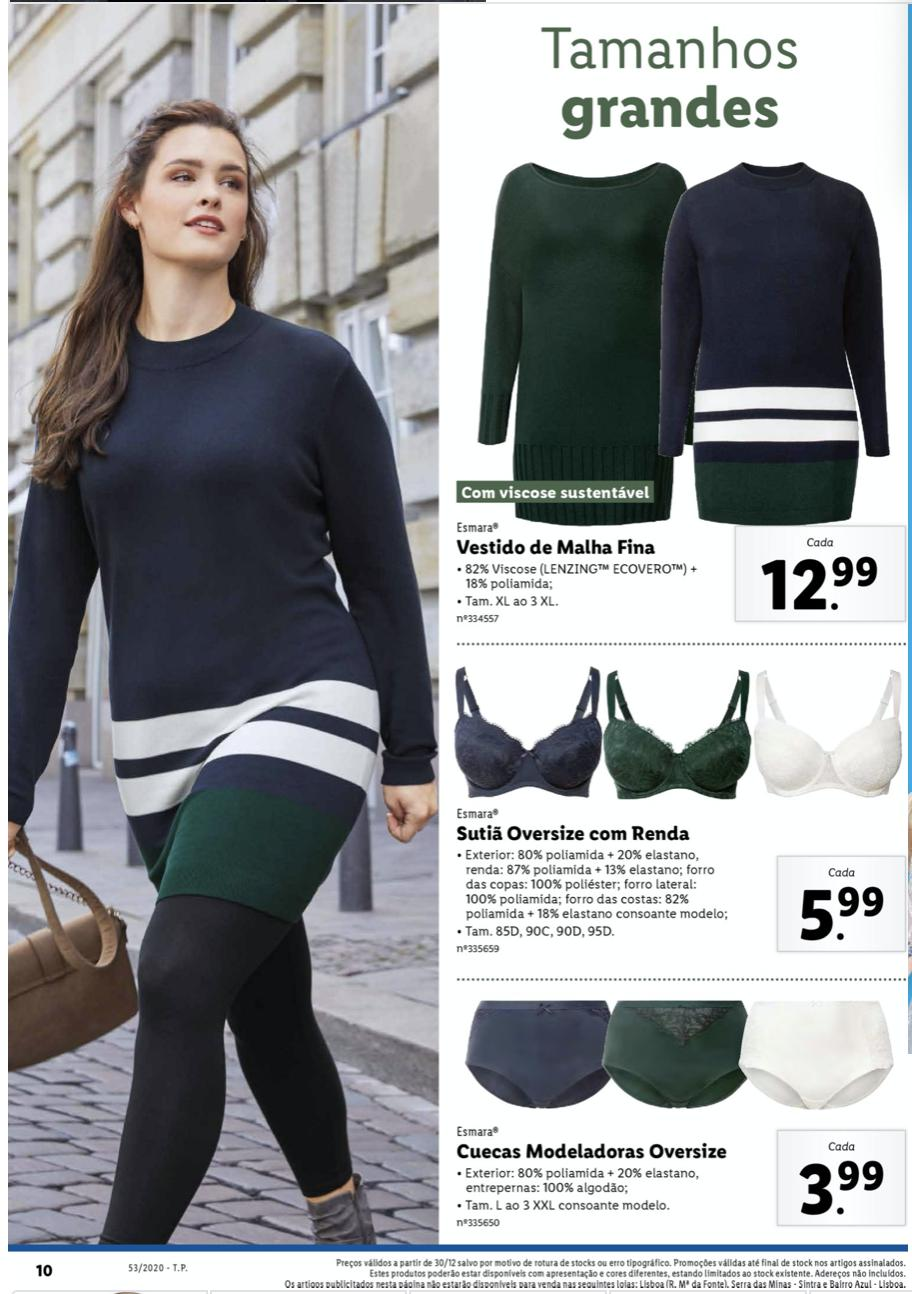name: (452, 1137, 733, 1168), (449, 820, 691, 850), (451, 533, 662, 562)
price: (749, 550, 890, 613), (788, 1155, 890, 1223), (791, 881, 893, 945)
product: (435, 124, 904, 641), (446, 654, 906, 968), (448, 991, 904, 1241)
